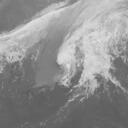cyclone: (27, 27, 113, 92)
